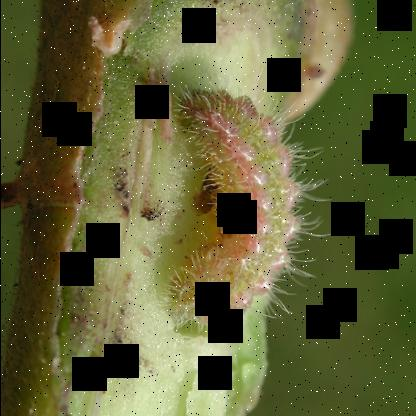oruga: (167, 87, 329, 330)
